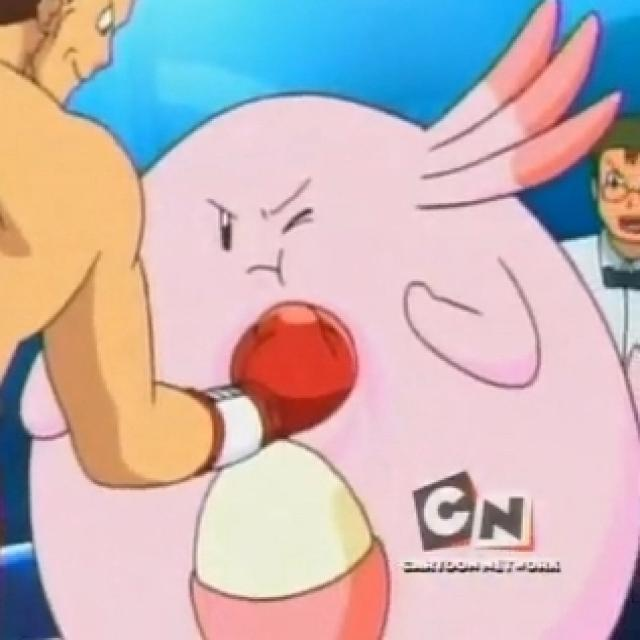Chansey: (74, 93, 611, 640)
